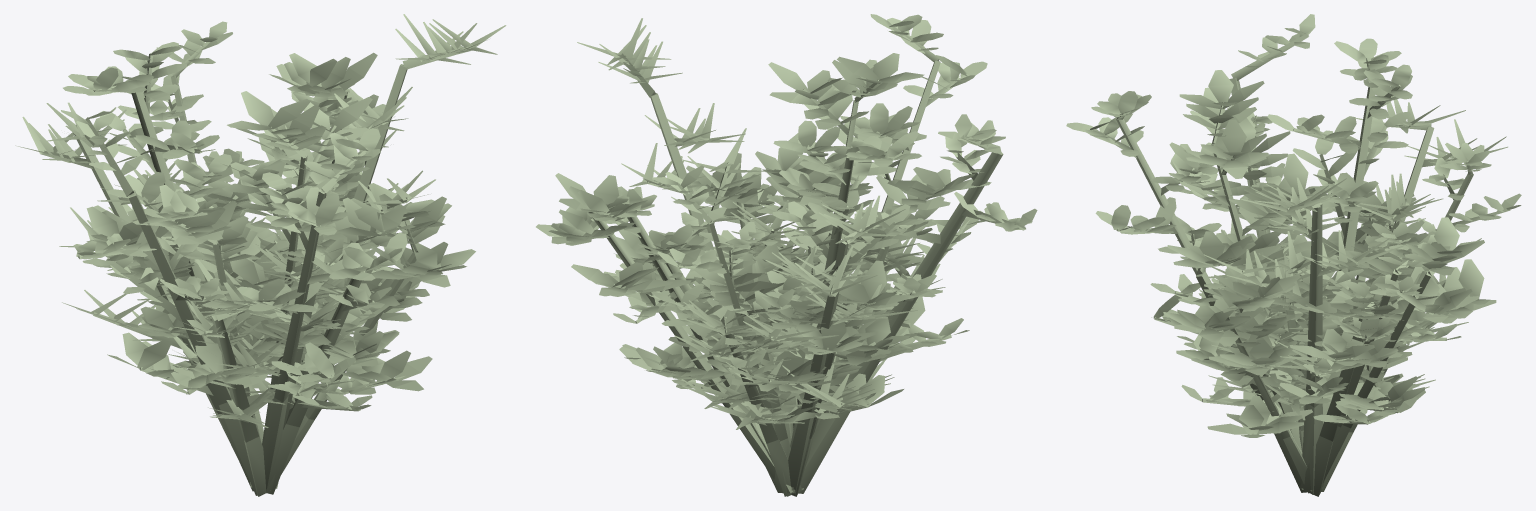
File: shrub_irregular.glb
The picture shows the model from 3 angles, left to right: view 1: azimuth 30°, elevation 25°; view 2: azimuth 150°, elevation 25°; view 3: azimuth 270°, elevation 25°; orthographic projection. The views are drawn at different scales.
Parts seen in each view (by area): view 1: v1_foliage, v2_foliage, v0_foliage, v3_foliage, v0_bark, v3_bark, v2_bark, v1_bark; view 2: v1_foliage, v3_foliage, v2_foliage, v0_foliage, v0_bark, v3_bark, v1_bark, v2_bark; view 3: v1_foliage, v2_foliage, v0_foliage, v3_foliage, v2_bark, v3_bark, v1_bark, v0_bark.
Boxes of the visible parts, x1=… form: v1_foliage: x1=85, y1=52, x2=475, y2=394; v2_foliage: x1=63, y1=42, x2=407, y2=381; v0_foliage: x1=61, y1=21, x2=391, y2=409; v3_foliage: x1=15, y1=14, x2=506, y2=427; v0_bark: x1=78, y1=42, x2=374, y2=495; v3_bark: x1=44, y1=46, x2=470, y2=496; v2_bark: x1=94, y1=53, x2=397, y2=491; v1_bark: x1=115, y1=89, x2=438, y2=491; v1_foliage: x1=536, y1=53, x2=991, y2=423; v3_foliage: x1=577, y1=18, x2=945, y2=429; v2_foliage: x1=614, y1=14, x2=987, y2=396; v0_foliage: x1=591, y1=114, x2=1037, y2=382; v0_bark: x1=610, y1=135, x2=1025, y2=493; v3_bark: x1=621, y1=53, x2=911, y2=496; v1_bark: x1=584, y1=80, x2=943, y2=496; v2_bark: x1=654, y1=24, x2=967, y2=493; v1_foliage: x1=1163, y1=70, x2=1496, y2=437; v2_foliage: x1=1066, y1=38, x2=1424, y2=423; v0_foliage: x1=1150, y1=14, x2=1521, y2=416; v3_foliage: x1=1193, y1=99, x2=1507, y2=420; v2_bark: x1=1093, y1=58, x2=1401, y2=496; v3_bark: x1=1234, y1=123, x2=1456, y2=494; v1_bark: x1=1185, y1=102, x2=1469, y2=493; v0_bark: x1=1174, y1=33, x2=1510, y2=492.
Bounding box in the file's own units: 1.11 × 1 × 1.06.
